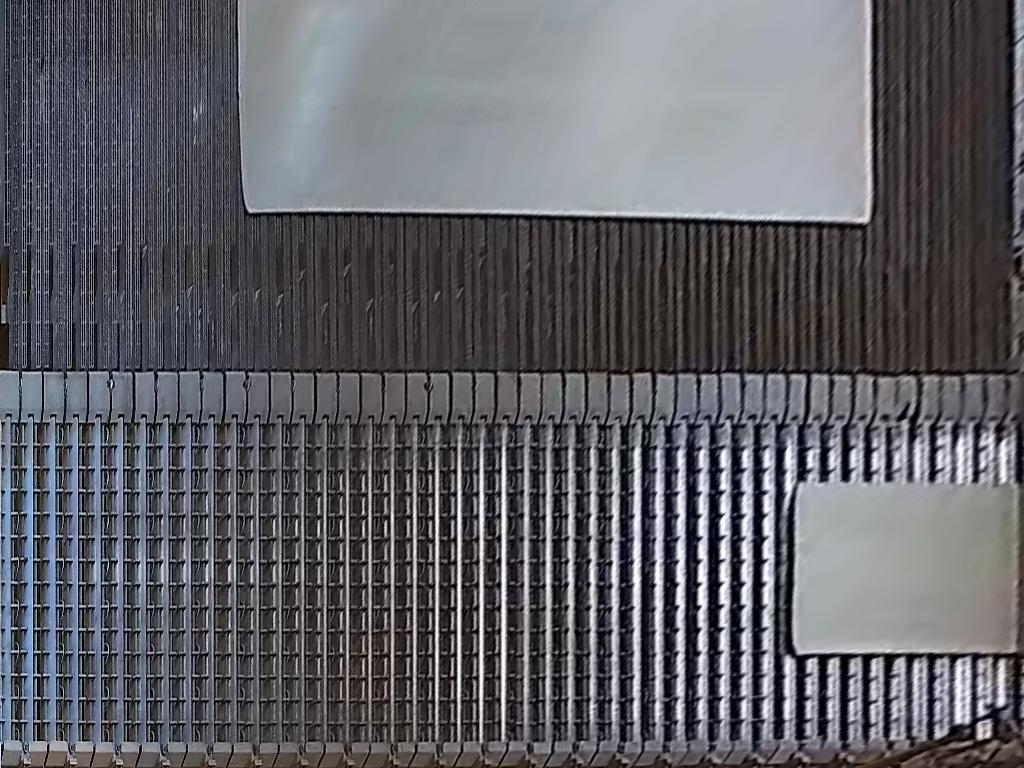steel: (237, 1, 872, 225), (790, 481, 1024, 655)
